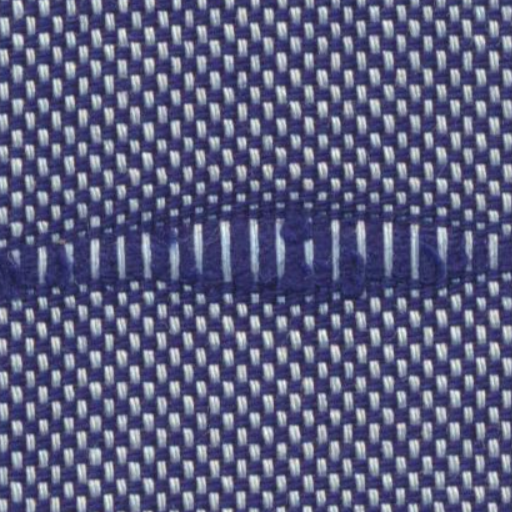DaiSha: (12, 191, 496, 315)
